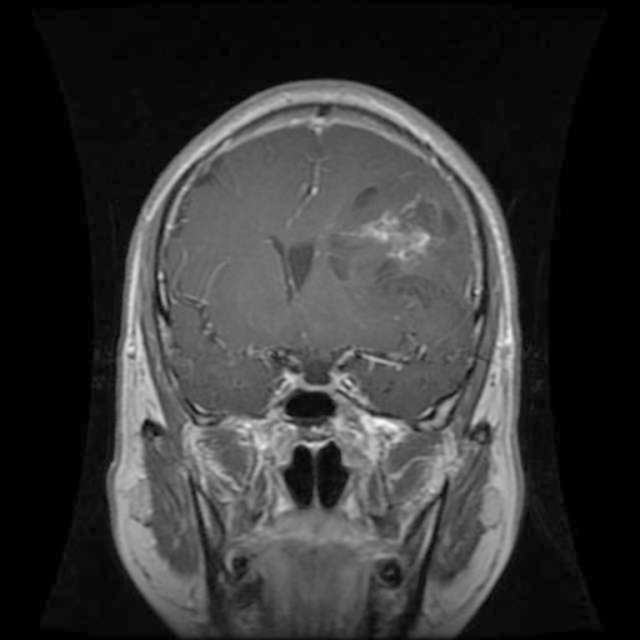pituitary tumor: (338, 210, 436, 265)
